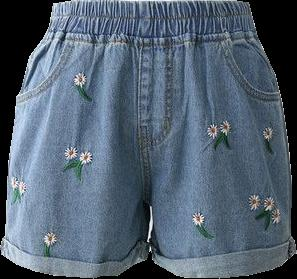Hemline: (0, 252, 148, 278), (152, 252, 296, 278)
Pantleg: (140, 0, 295, 277), (1, 0, 149, 277)
Waistline: (41, 35, 258, 47), (50, 0, 248, 6)
